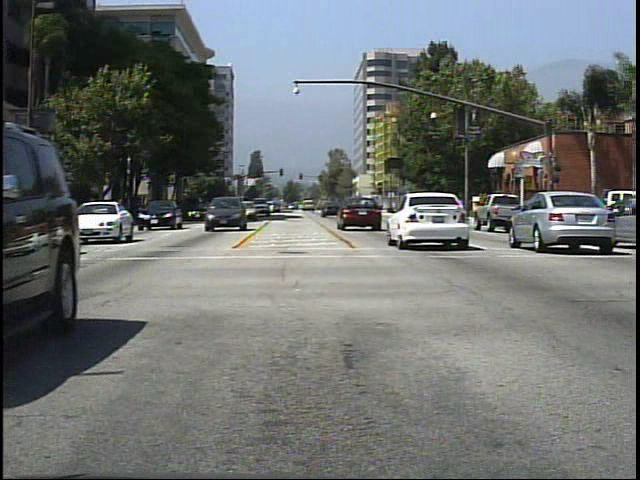person: (533, 193, 551, 228), (495, 189, 512, 224)
